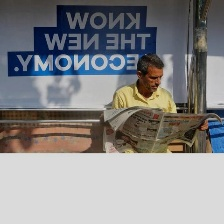news_paper: (99, 104, 223, 153)
